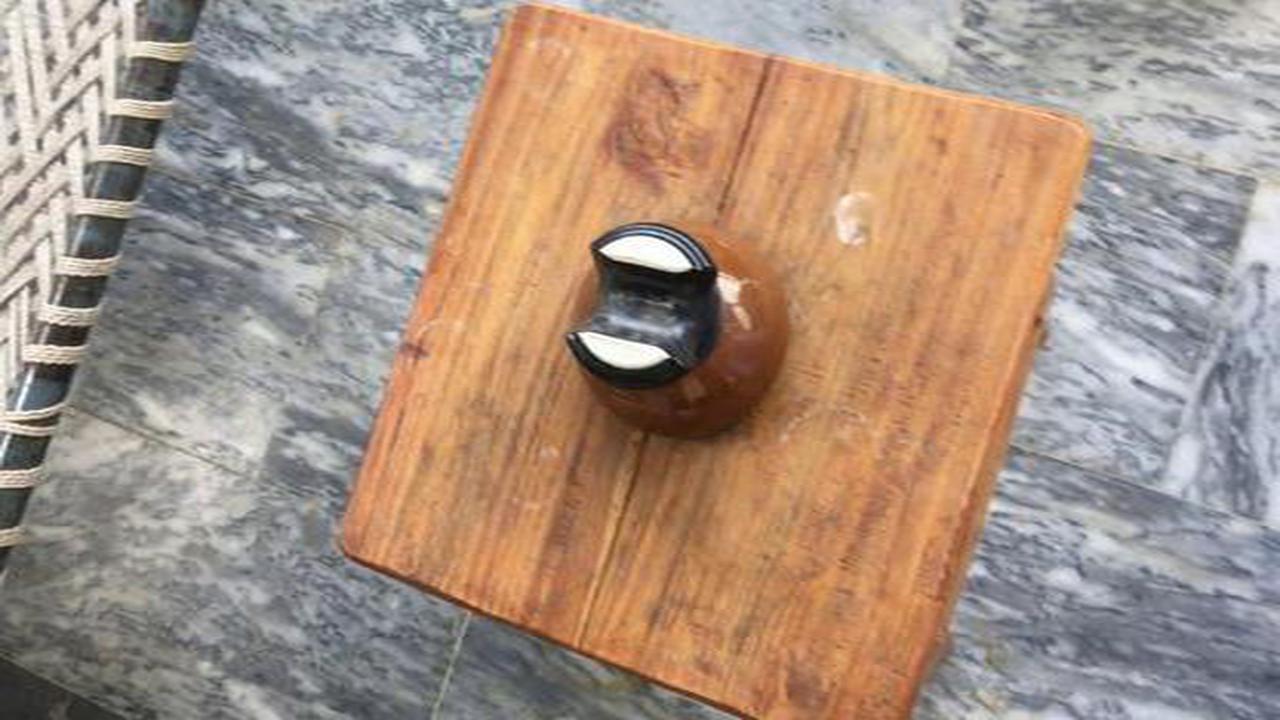insulator_pin: (533, 206, 813, 445)
